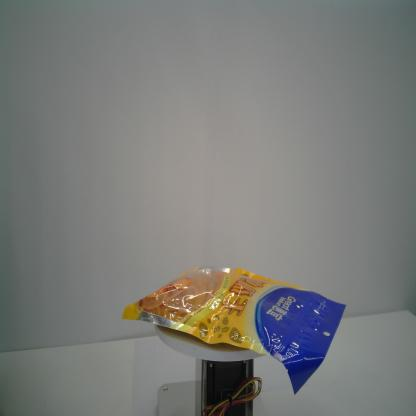Dried Fruit: (121, 264, 347, 397)
